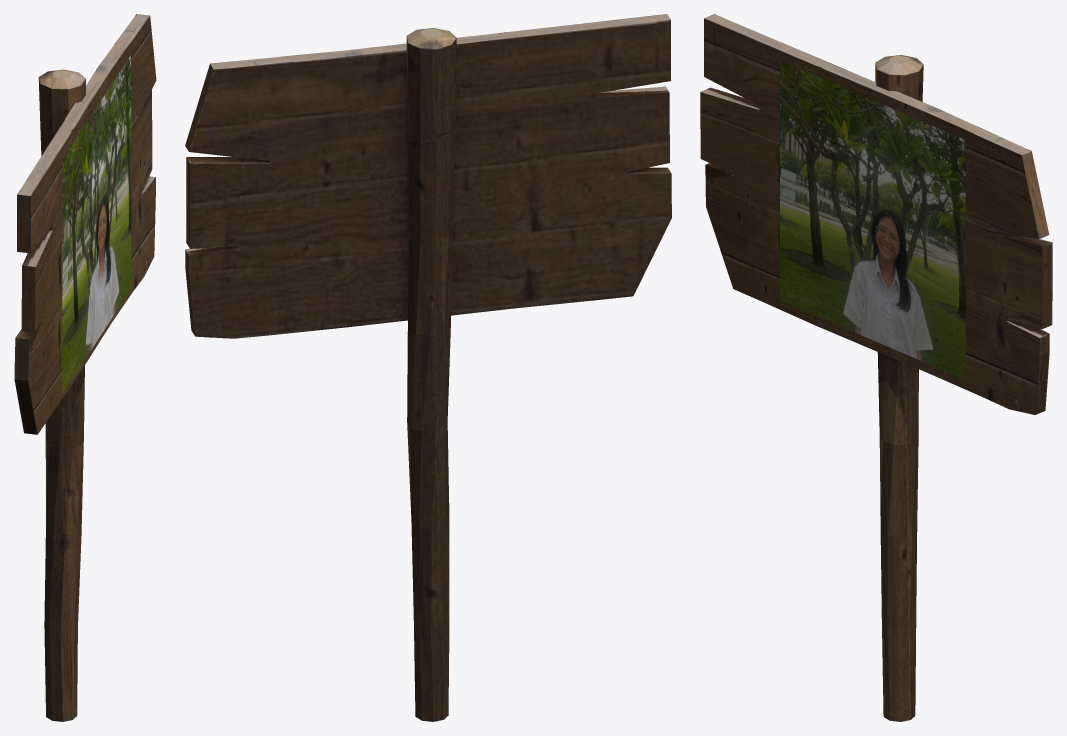
Rendered from pic.glb.
3 views of the same model, side by side, from view 1: azimuth 30°, elevation 25°; view 2: azimuth 150°, elevation 25°; view 3: azimuth 270°, elevation 25° (orthographic). The views are drawn at different scales.
Parts seen in each view (by area): view 1: Signpost_Tall_Baked_dark_0, Plane.001; view 2: Signpost_Tall_Baked_dark_0; view 3: Signpost_Tall_Baked_dark_0, Plane.001.
Part boxes in pixels (box(x1,y1,x2,y2)): Signpost_Tall_Baked_dark_0: box(14, 14, 156, 721); Plane.001: box(62, 55, 131, 393); Signpost_Tall_Baked_dark_0: box(185, 14, 671, 721); Signpost_Tall_Baked_dark_0: box(700, 14, 1052, 721); Plane.001: box(780, 60, 965, 379).
Size of the model in its own units: 0.3595 by 0.7343 by 0.3578.
Materials: 2 (2 with a texture image).
